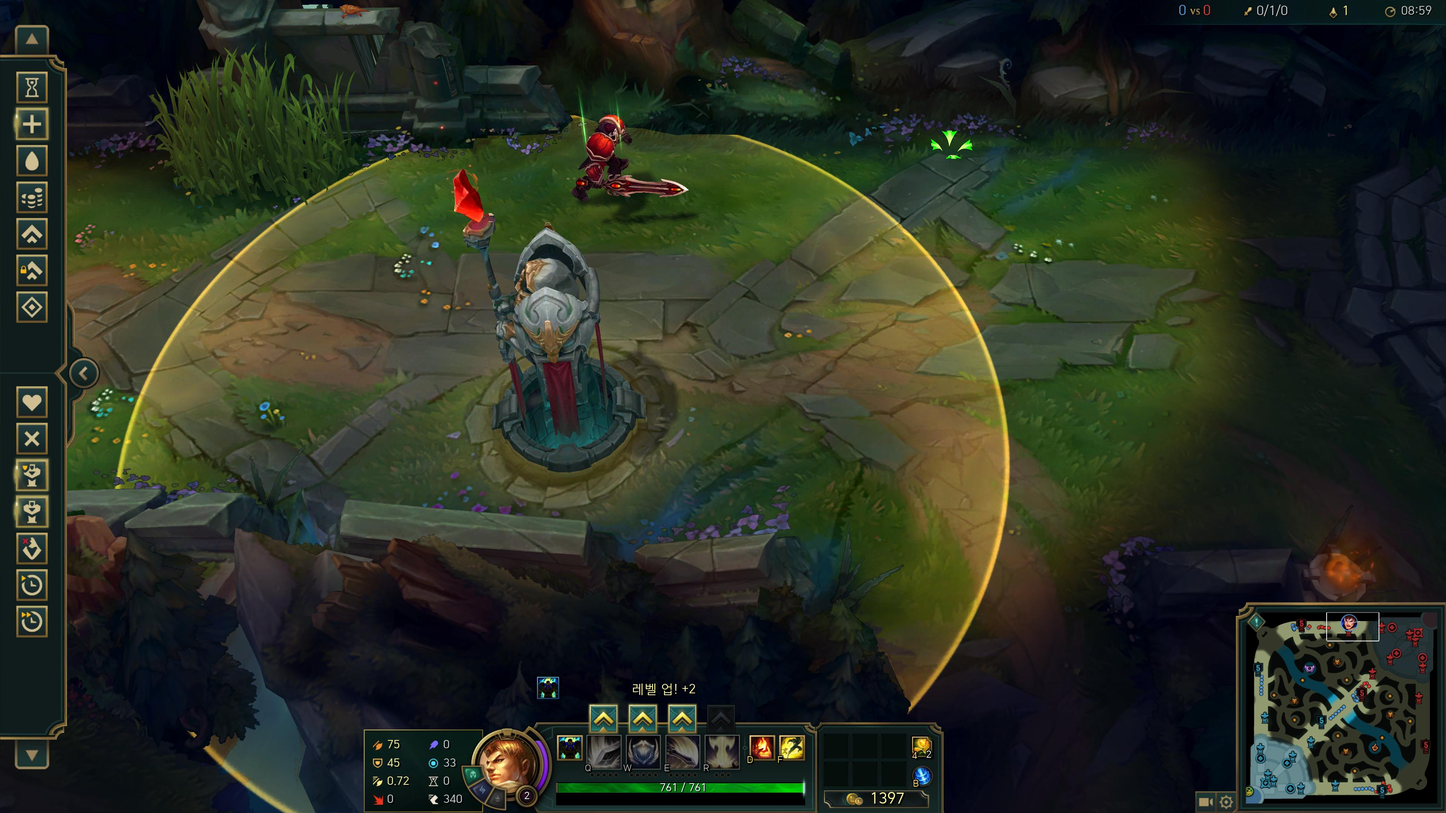enemy-tower: (453, 169, 667, 508)
